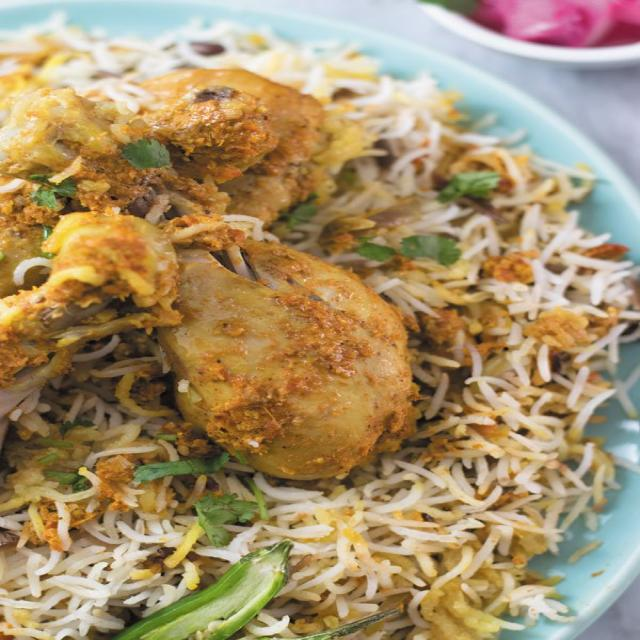chicken biryani: (0, 13, 631, 640)
